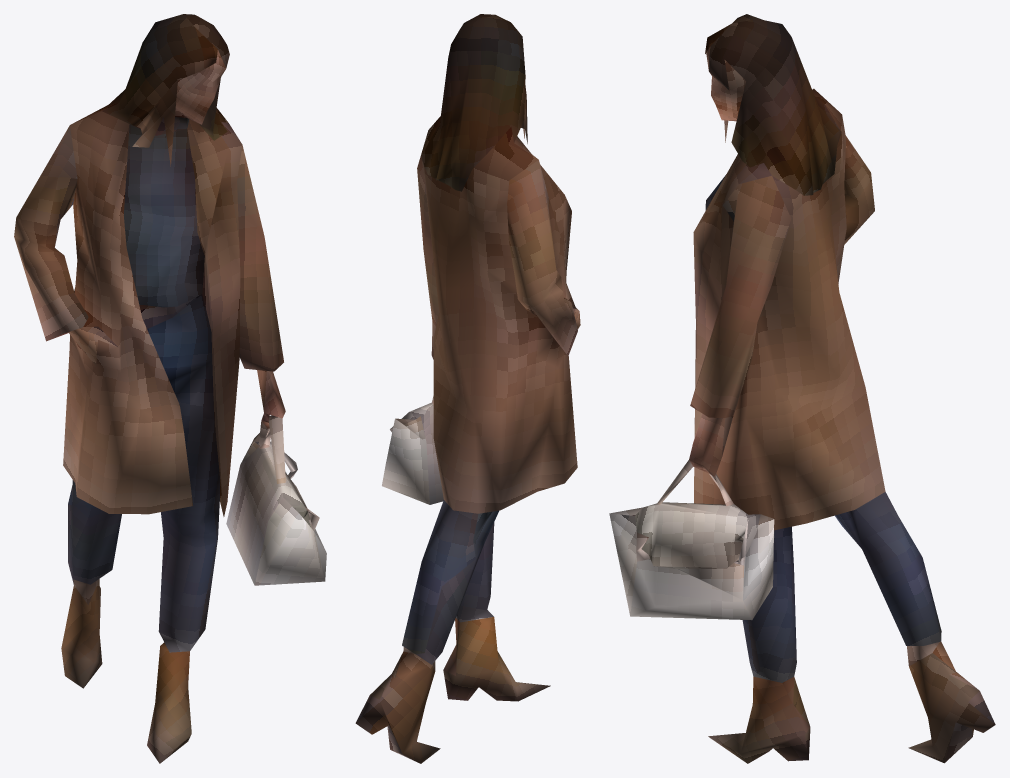
3 views of the same model, side by side, from view 1: azimuth 30°, elevation 25°; view 2: azimuth 150°, elevation 25°; view 3: azimuth 270°, elevation 25° (orthographic). The views are drawn at different scales.
Visible parts, largest first — view 1: Object_2.002; view 2: Object_2.002; view 3: Object_2.002.
Part boxes in pixels (x1=…): Object_2.002: x1=14, y1=14, x2=326, y2=763; Object_2.002: x1=355, y1=14, x2=580, y2=763; Object_2.002: x1=609, y1=14, x2=995, y2=763.
Size of the model in its own units: 0.5889 by 1.74 by 0.8155.
1 material, 1 textured.
